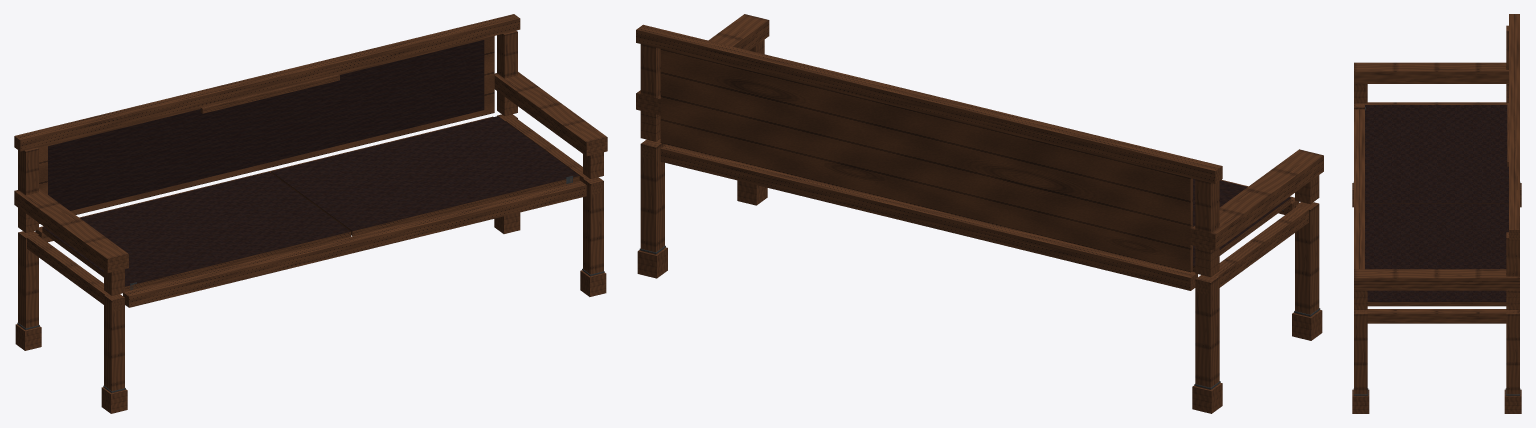
The model's file is sofa_two.obj.
The picture shows the model from 3 angles, left to right: view 1: azimuth 30°, elevation 25°; view 2: azimuth 150°, elevation 25°; view 3: azimuth 270°, elevation 25°; orthographic projection. The views are drawn at different scales.
Parts seen in each view (by area): view 1: material_2, material_5; view 2: material_5, material_2; view 3: material_2, material_5.
Part boxes in pixels (x1,y1,x2,y2): material_2: (42, 40, 579, 286); material_5: (14, 14, 607, 413); material_5: (636, 14, 1323, 413); material_2: (1193, 179, 1290, 266); material_2: (1365, 105, 1508, 301); material_5: (1352, 14, 1521, 413).
Bounding box in the file's own units: 60.16 × 24.06 × 19.92.
Materials: 3 (3 with a texture image).
